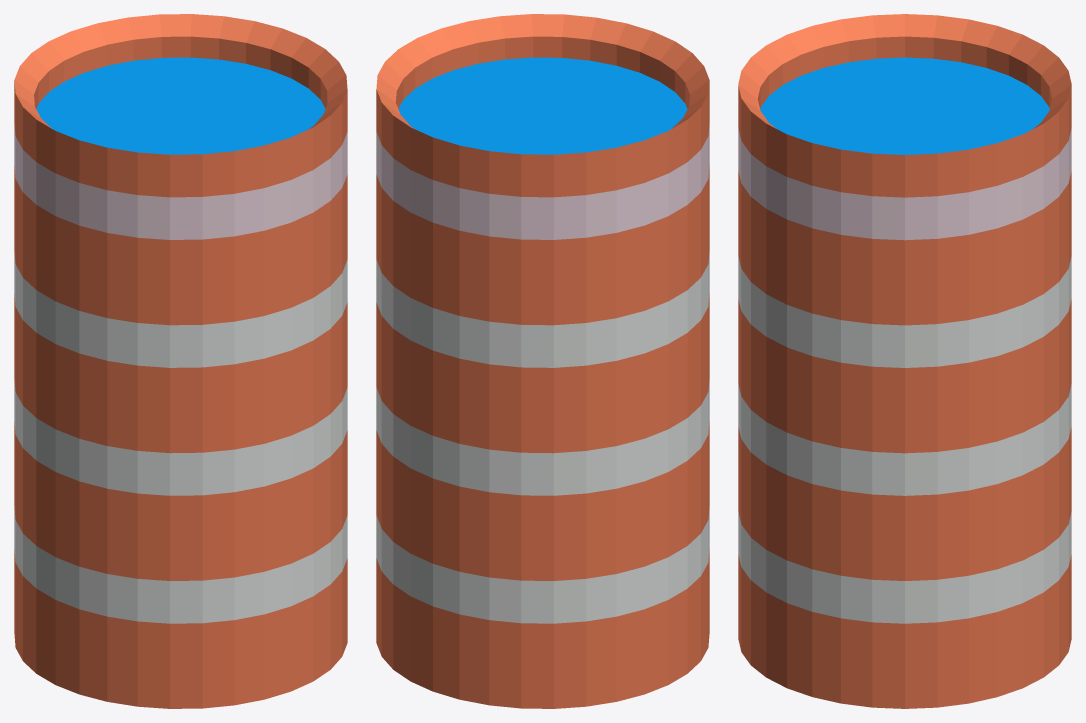
The model's file is CarBorlr.fbx.
The picture shows the model from 3 angles, left to right: view 1: azimuth 30°, elevation 25°; view 2: azimuth 150°, elevation 25°; view 3: azimuth 270°, elevation 25°; orthographic projection.
Visible parts, largest first — view 1: Cylinder; view 2: Cylinder; view 3: Cylinder.
Boxes of the visible parts, left/top/right/bottom form: Cylinder: left=14, top=14, right=347, bottom=708; Cylinder: left=376, top=14, right=709, bottom=708; Cylinder: left=738, top=14, right=1071, bottom=708.
Bounding box in the file's own units: 40.89 × 74.92 × 40.89.
